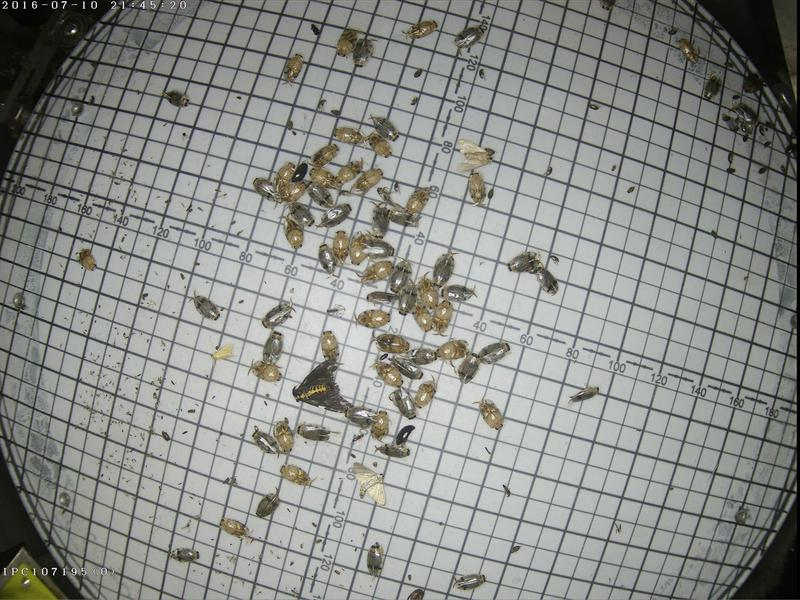Meadow borer: (210, 344, 232, 358)
